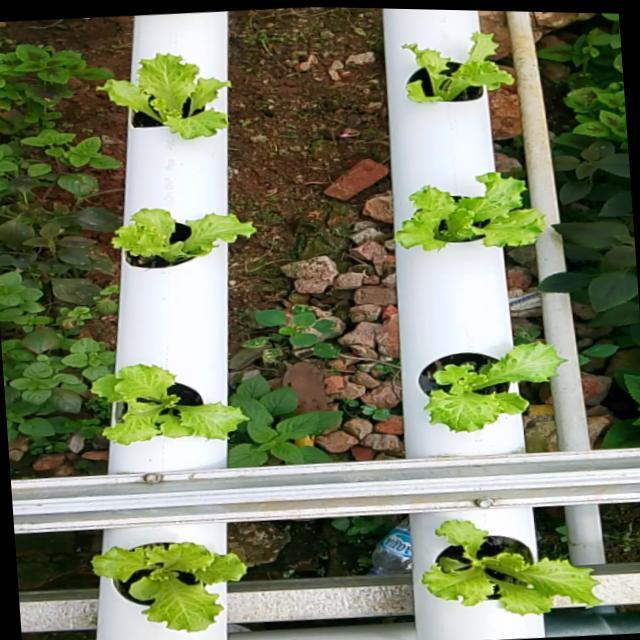Baby: (427, 513, 607, 607), (97, 520, 251, 628), (418, 341, 566, 432), (97, 360, 256, 441), (395, 172, 547, 250), (99, 54, 232, 139), (113, 208, 258, 268), (405, 33, 515, 103)
